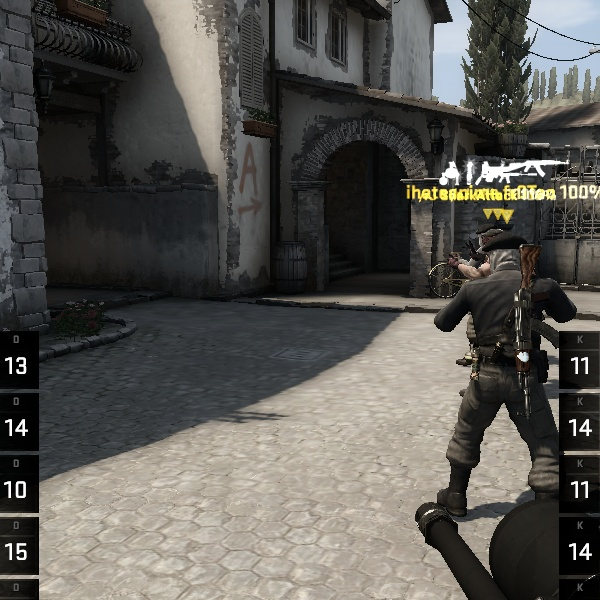t_body: (418, 220, 586, 585)
t_head: (463, 225, 530, 282)
